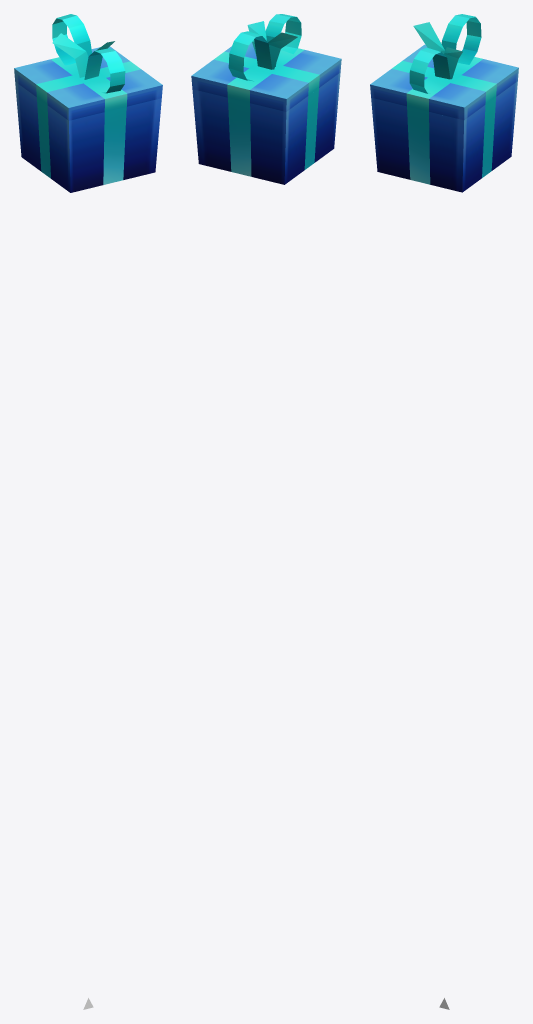
File: XmasPresent_bue.glb
3 renders of one model, left to right at view 1: azimuth 30°, elevation 25°; view 2: azimuth 150°, elevation 25°; view 3: azimuth 330°, elevation 25°, orthographic.
Parts seen in each view (by area): view 1: box, lid; view 2: box, lid; view 3: box, lid.
Boxes of the visible parts, left/top/right/bottom form: box: left=15, top=82, right=161, bottom=1009; lid: left=14, top=14, right=162, bottom=120; box: left=192, top=72, right=340, bottom=184; lid: left=191, top=14, right=341, bottom=111; box: left=371, top=81, right=517, bottom=1009; lid: left=370, top=14, right=518, bottom=120.
Size of the model in its own units: 0.0895 by 0.8863 by 0.0954.
Materials: 2 (1 with a texture image).
